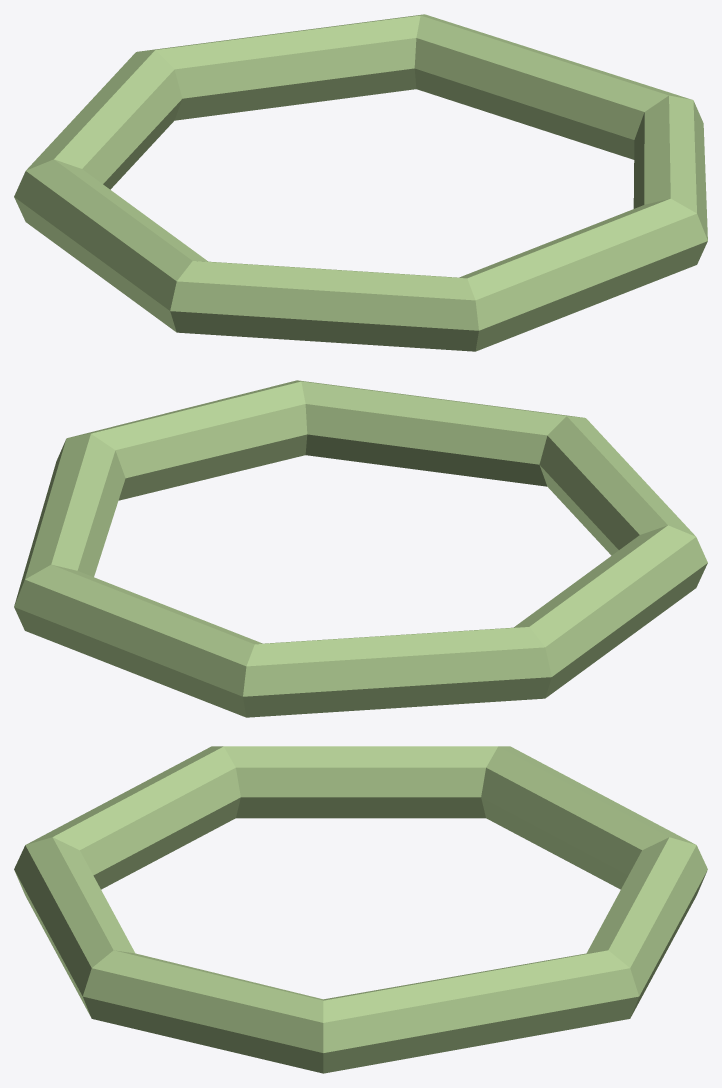
File: bracelet_green.fbx
3 views of the same model, one above another, from view 1: azimuth 30°, elevation 25°; view 2: azimuth 150°, elevation 25°; view 3: azimuth 270°, elevation 25° (orthographic).
Visible parts, largest first — view 1: bracelet_green; view 2: bracelet_green; view 3: bracelet_green.
Part boxes in pixels (<box>): bracelet_green: <box>14,14,707,351</box>; bracelet_green: <box>14,380,707,717</box>; bracelet_green: <box>14,746,707,1073</box>.
Bounding box in the file's own units: 1.03 × 0.1205 × 1.06.
